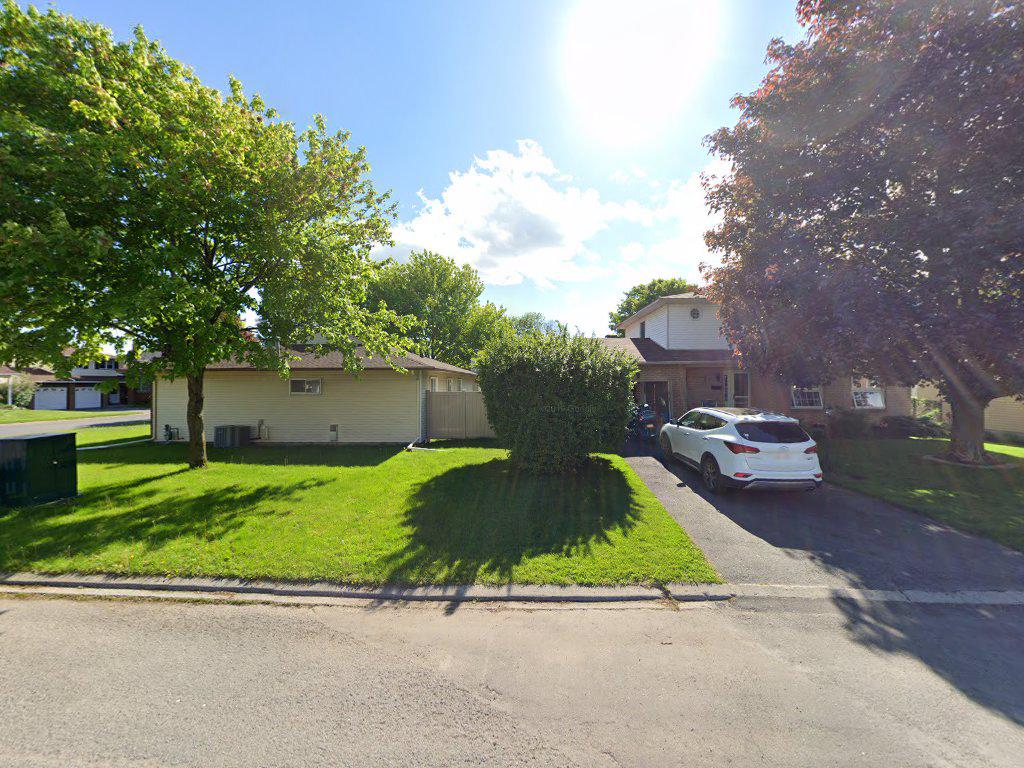trunk: (946, 386, 998, 476), (181, 368, 211, 484)
